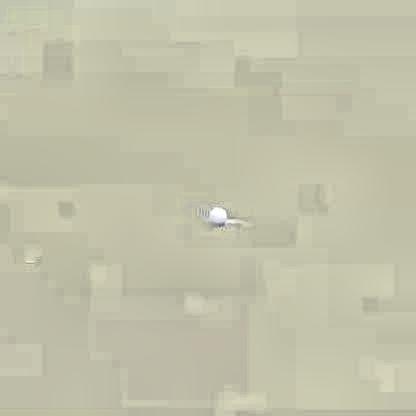golfball: (206, 205, 224, 225)
